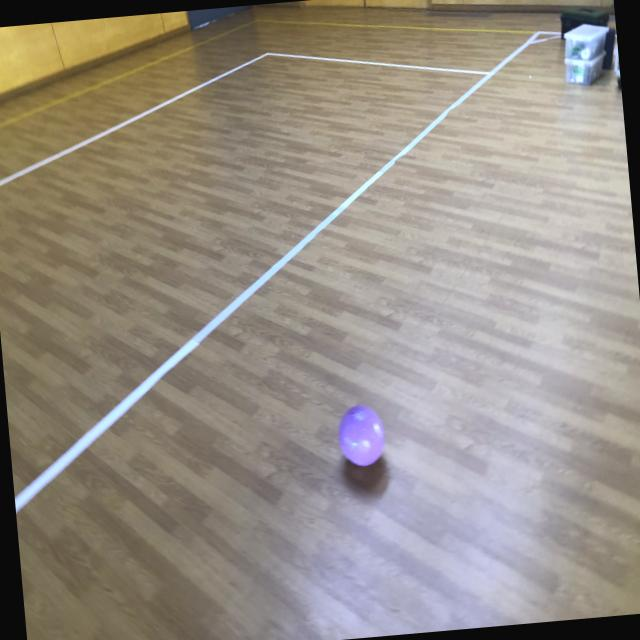purple_ball: (336, 402, 384, 467)
